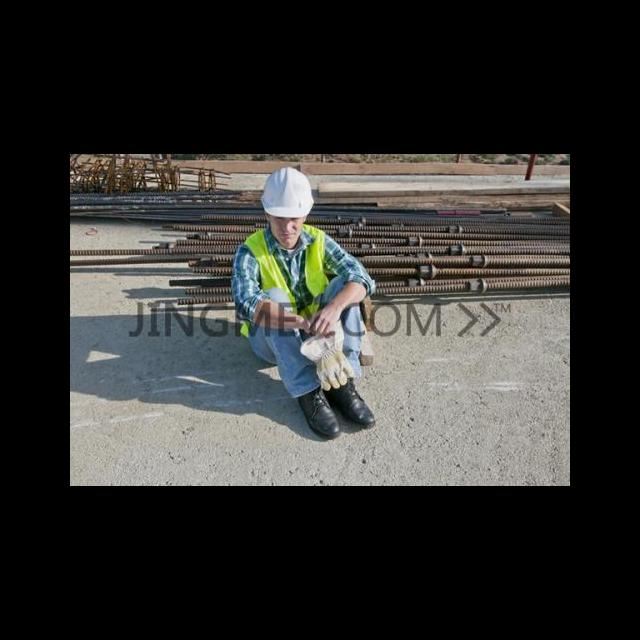Gloves: (298, 334, 349, 389), (317, 331, 345, 387)
Hardhat: (259, 166, 316, 220)
NO-Mask: (274, 228, 302, 247)
Person: (233, 165, 376, 440)
Safety Vest: (241, 225, 331, 339)
